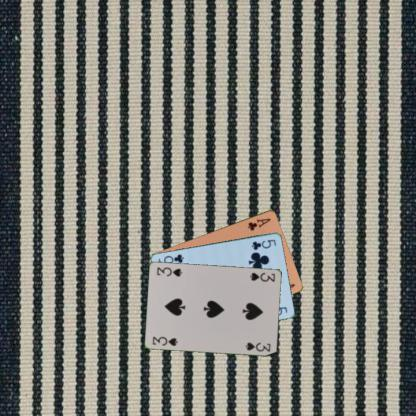3s: (150, 334, 179, 347), (247, 270, 276, 282)
5c: (249, 237, 277, 251)
Ac: (245, 216, 272, 232)
